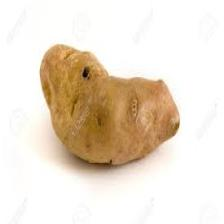Damaged potato: (38, 24, 186, 170)
